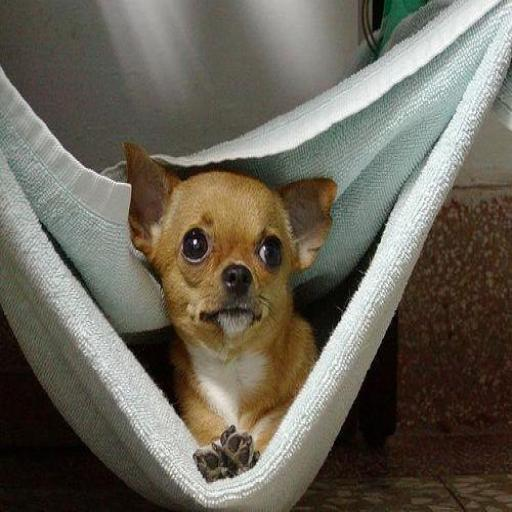dog_face: (118, 134, 336, 348)
